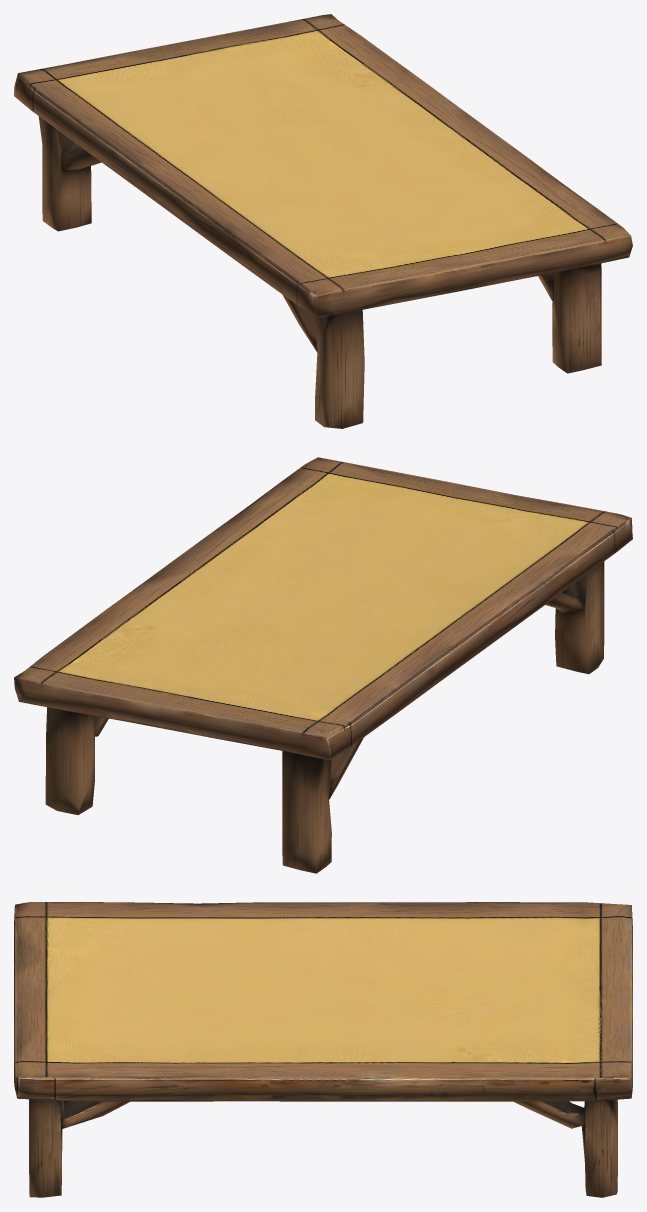
File: Table.fbx
3 views of the same model, one above another, from view 1: azimuth 30°, elevation 25°; view 2: azimuth 150°, elevation 25°; view 3: azimuth 270°, elevation 25° (orthographic). The views are drawn at different scales.
Parts seen in each view (by area): view 1: tripo_node_446af4dc; view 2: tripo_node_446af4dc; view 3: tripo_node_446af4dc.
Part boxes in pixels (x1=…): tripo_node_446af4dc: x1=14, y1=14, x2=632, y2=428; tripo_node_446af4dc: x1=14, y1=457, x2=632, y2=873; tripo_node_446af4dc: x1=14, y1=902, x2=632, y2=1197.
Size of the model in its own units: 0.6054 by 0.2682 by 1.
Materials: 1 (1 with a texture image).
